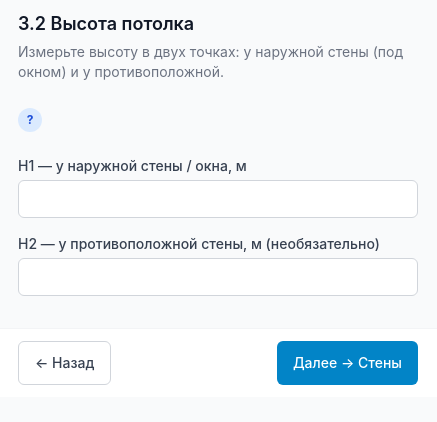
Scenario: CeilingHeightStep › shows validation error for H1 below minimum
Type "1.0" into the number field labelled "H1 — у наружной стены / окна, м" at (218, 199), box [18,180,418,218]
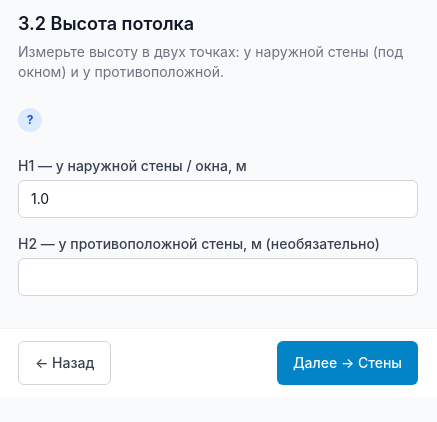
Click the button "Далее → Стены" at (347, 363), box [277,341,418,385]
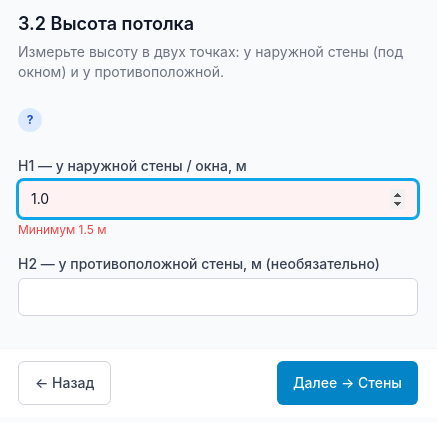
expect the text "Минимум 1.5 м" is shown: met, box [18,222,106,237]
